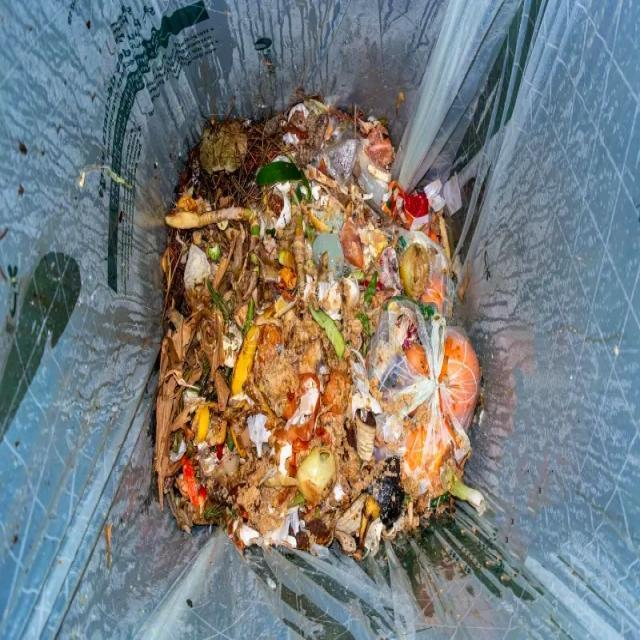Garbage: (154, 90, 485, 561)
Plastic_Bag: (368, 298, 479, 495), (354, 142, 388, 205), (324, 137, 358, 184)
